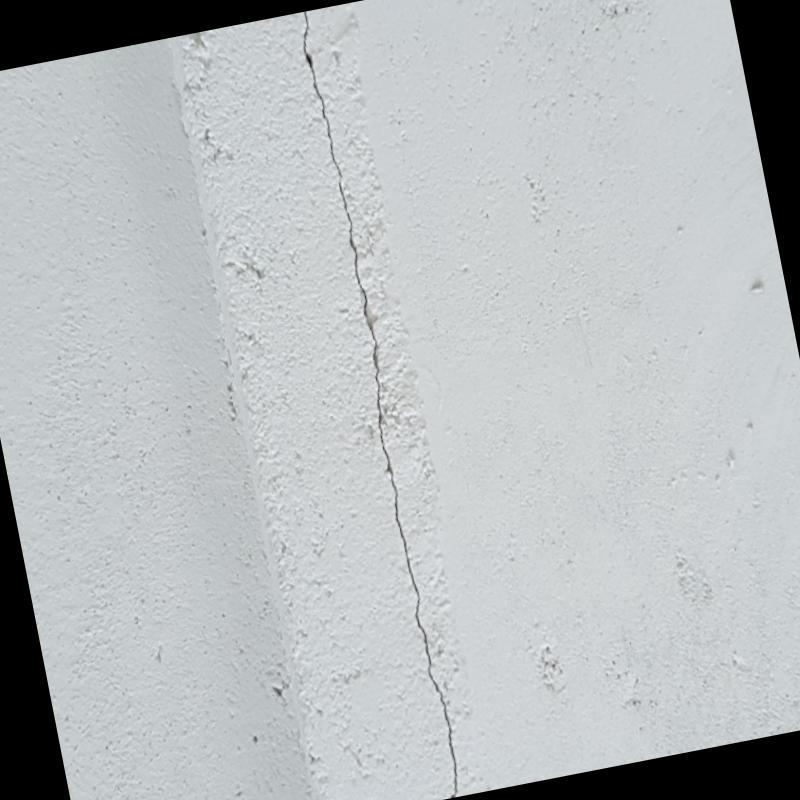pothole: (293, 12, 462, 788)
